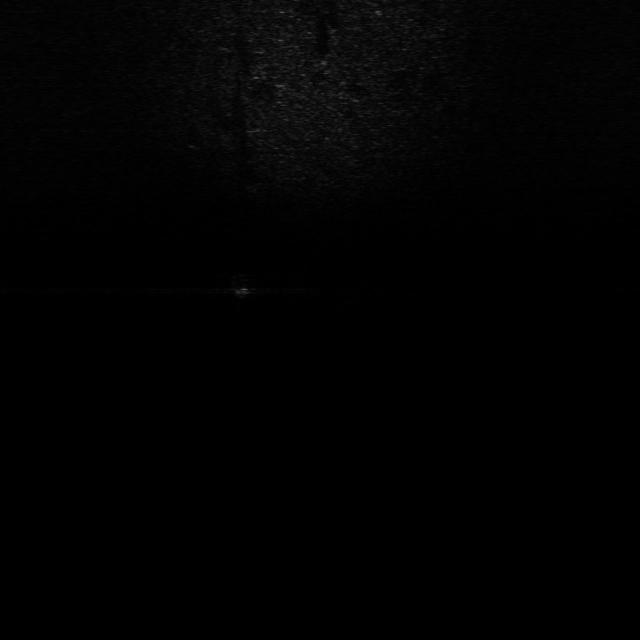human body: (227, 269, 257, 306)
